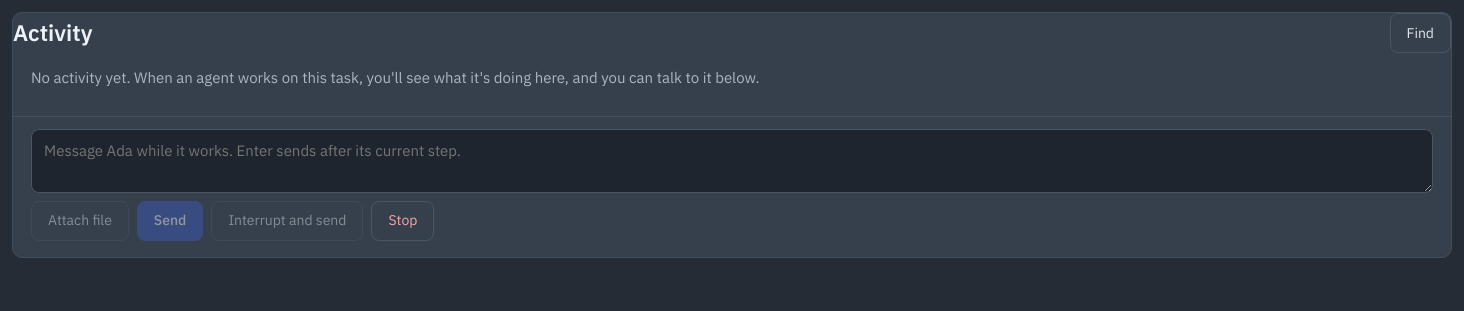
Scenario: stopping one run asks first and sends once (BOS-2162) › ticket page: No sends nothing; Yes sends one request even after a second tap
The image size is (1464, 311).
Later steps or results of the test are not shown.
Click the button "Stop": (403, 220) [371,200,434,240]
Click the button "Stop": (403, 220) [371,200,434,240]
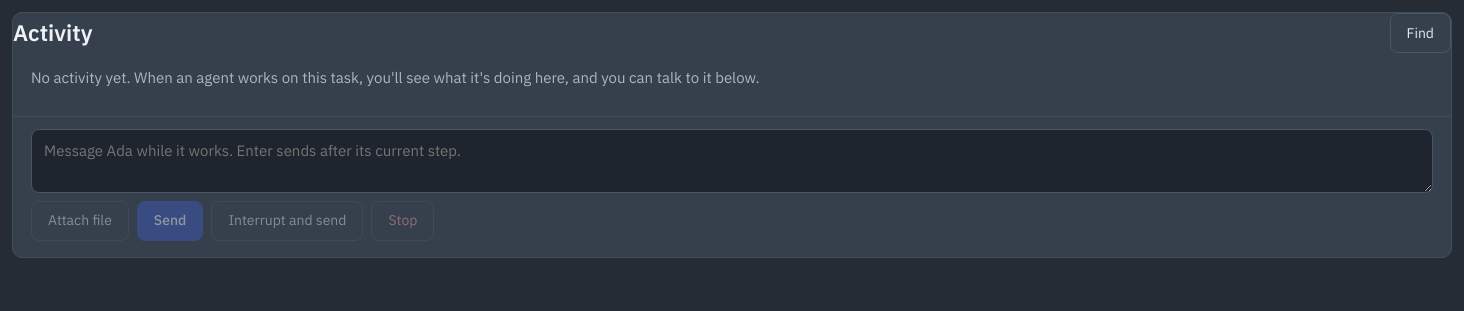
Click the button "Stop": (403, 220) [371,200,434,240]
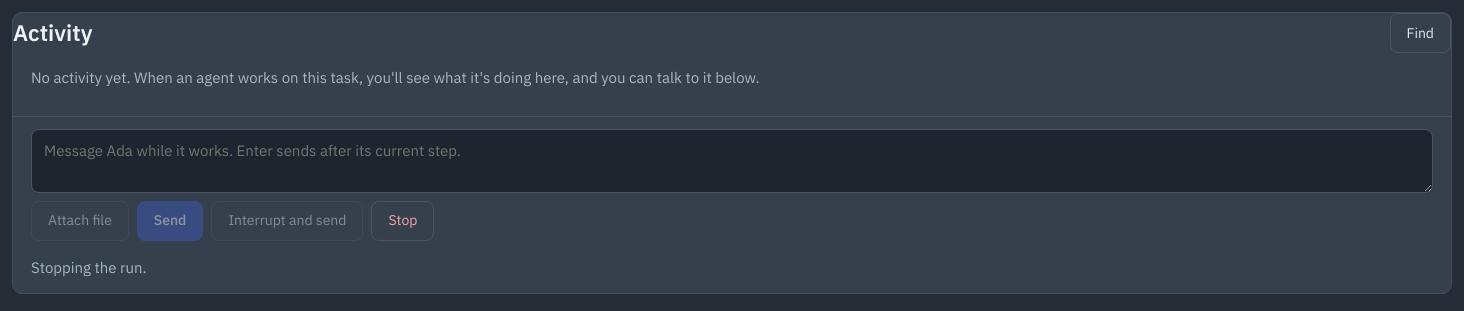
Result: the button "Stop" is enabled at [371,200,434,240]
